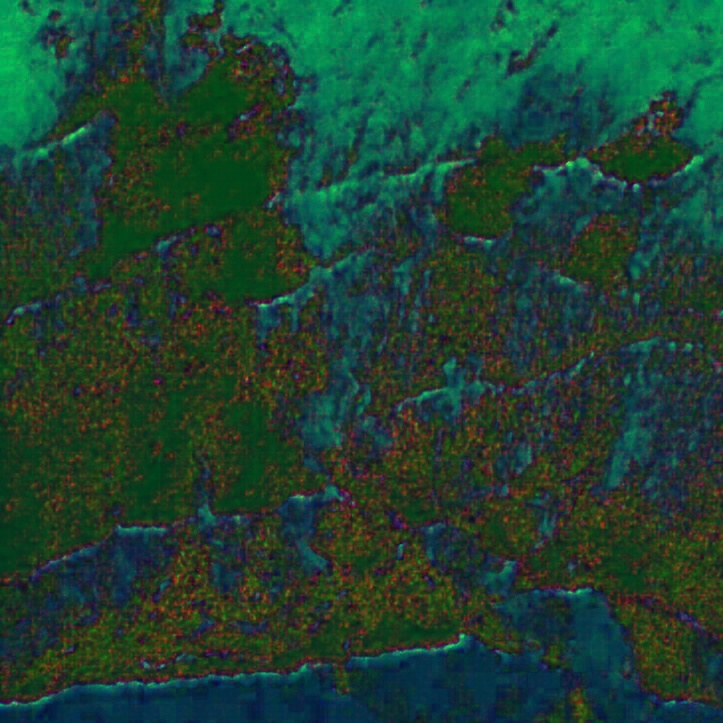rip_current: (195, 77, 530, 600)
